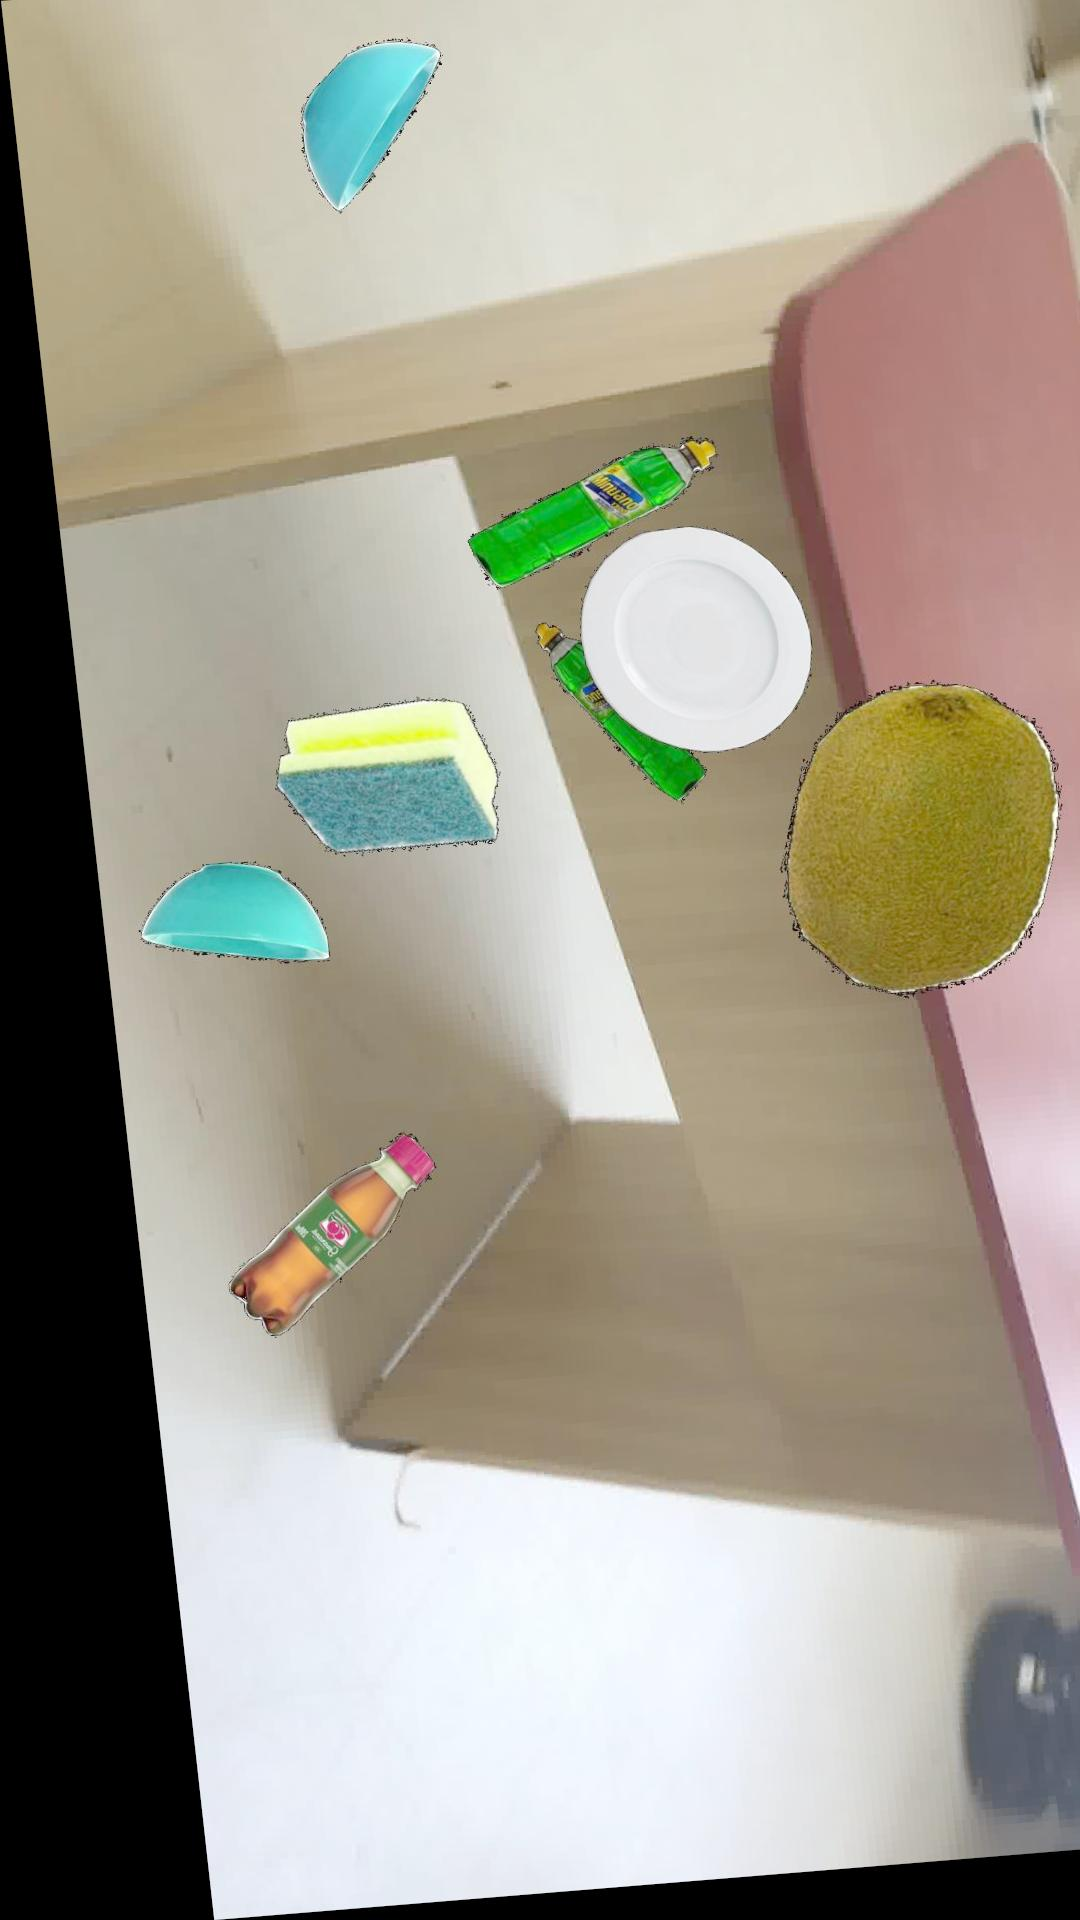bowl: (294, 47, 438, 218), (116, 865, 305, 967)
cleaner: (452, 448, 704, 596), (517, 632, 686, 812)
guarana: (195, 1138, 406, 1338)
kiwi: (760, 698, 1038, 1011)
plate: (562, 538, 793, 765)
sponge: (255, 705, 477, 858)
